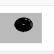correct: (13, 16, 34, 34)
